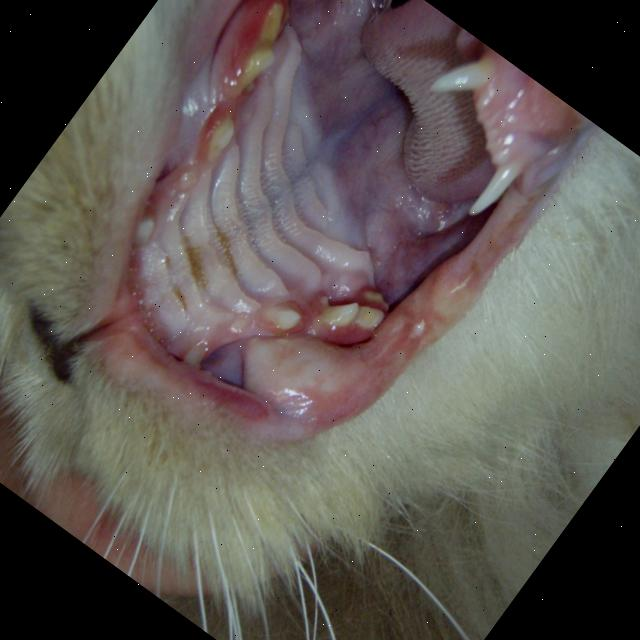cat-lump-and-bump: (358, 260, 469, 388), (253, 331, 360, 432)
